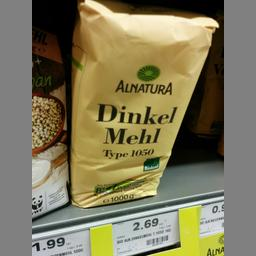flour: (68, 1, 214, 208)
